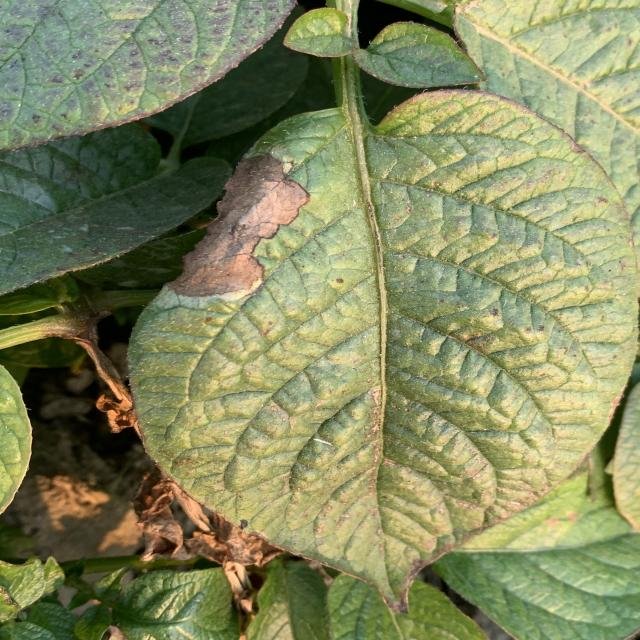lateblight: (167, 154, 310, 298)
